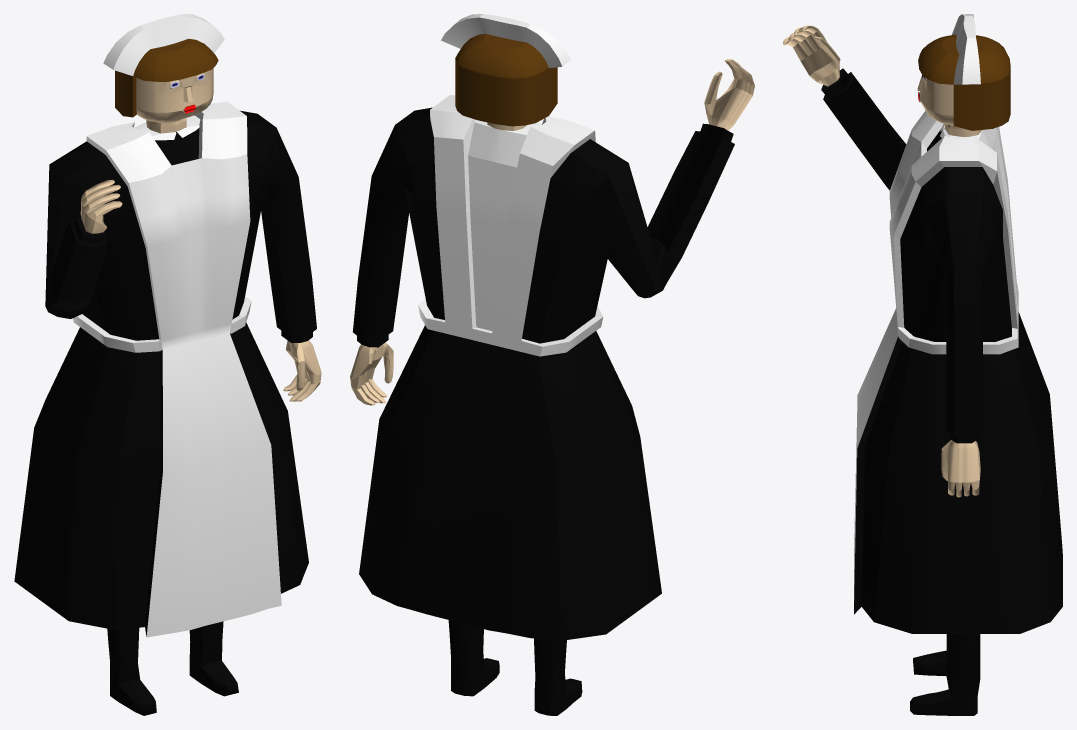
The model's file is turret.fbx.
The picture shows the model from 3 angles, left to right: view 1: azimuth 30°, elevation 25°; view 2: azimuth 150°, elevation 25°; view 3: azimuth 270°, elevation 25°; orthographic projection. The views are drawn at different scales.
Visible parts, largest first — view 1: pCube3; view 2: pCube3; view 3: pCube3.
Boxes of the visible parts, x1,y1,x2,y2 form: pCube3: (14, 14, 321, 715); pCube3: (350, 14, 754, 715); pCube3: (783, 14, 1062, 715).
Size of the model in its own units: 5.28 by 10.82 by 4.13.
Materials: 1 (1 with a texture image).
